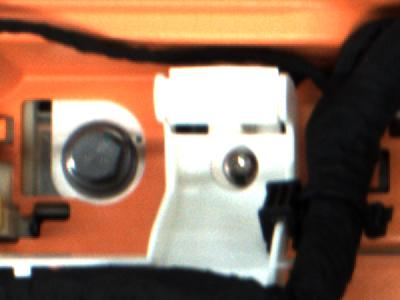nut_b: (53, 121, 142, 200)
